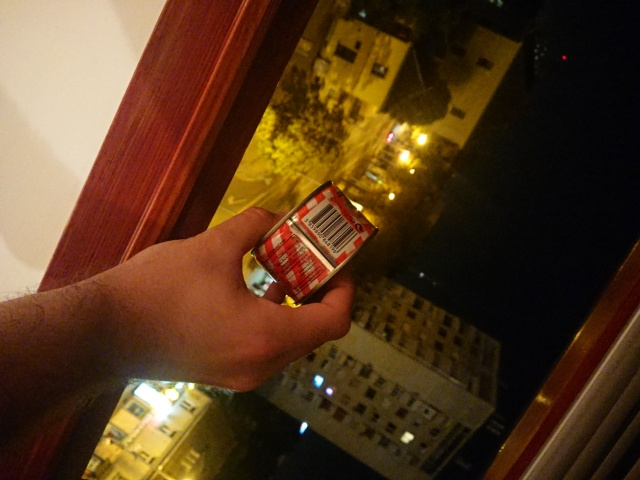Podravka Luncheon Meat 150g: (248, 178, 381, 309)
